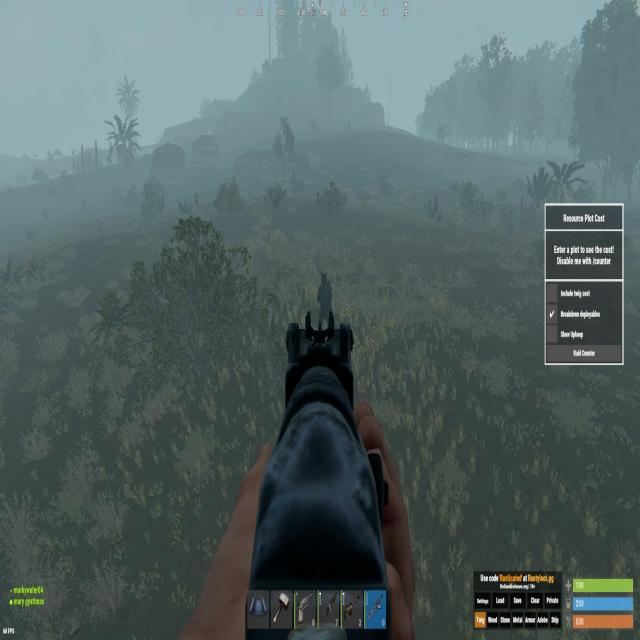Player: (316, 271, 334, 330)
